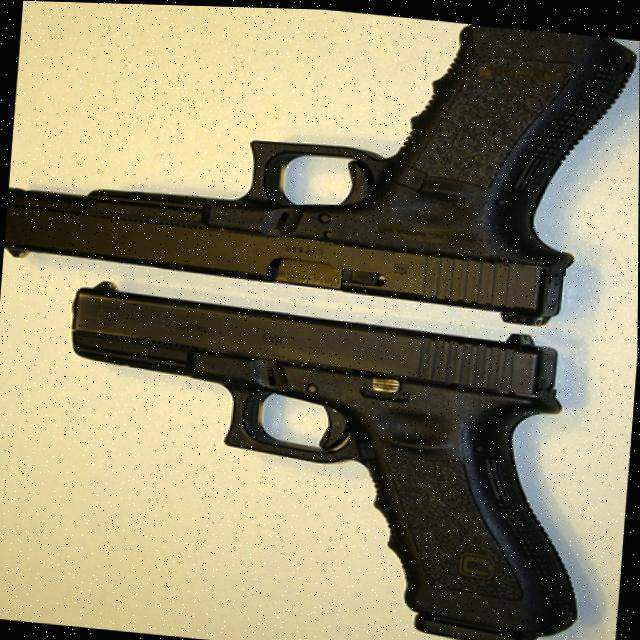pistol: (0, 0, 639, 331), (46, 275, 598, 640)
